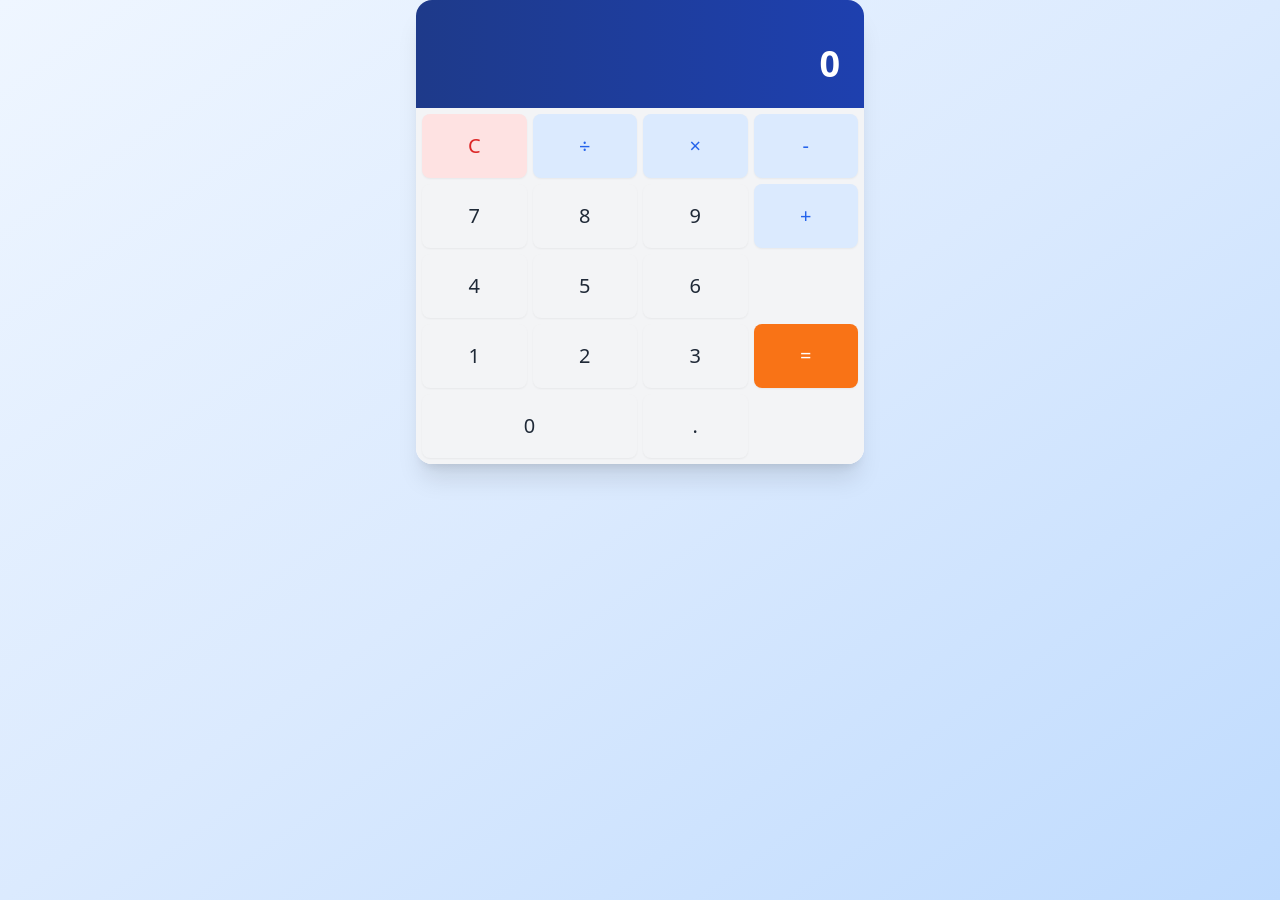
Test case: Calculator Component › should perform subtraction correctly
Click the button "9": (695, 216) [643,184,748,248]
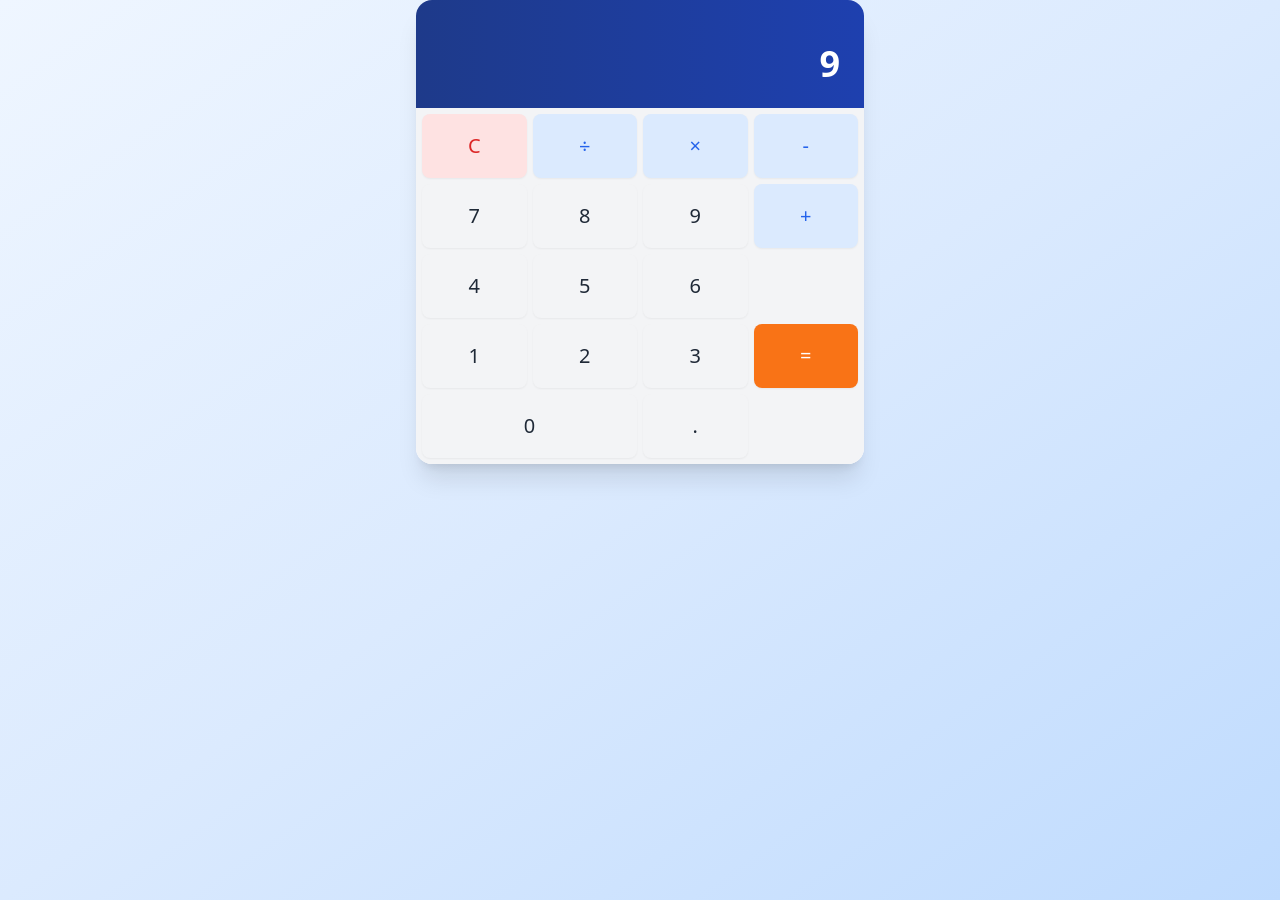
Click the button "-": (806, 146) [754,114,858,178]
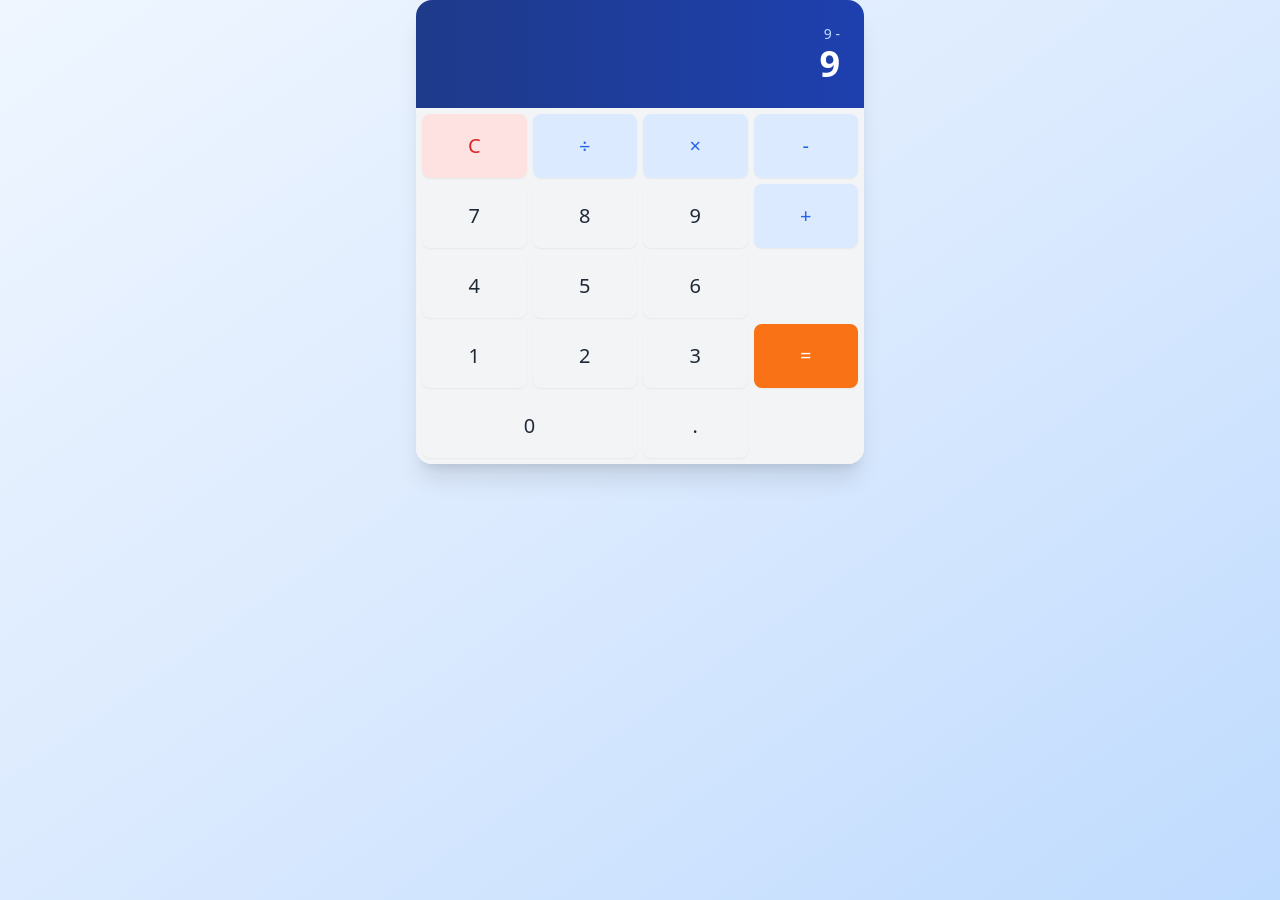
Click the button "4": (474, 286) [422,254,526,318]
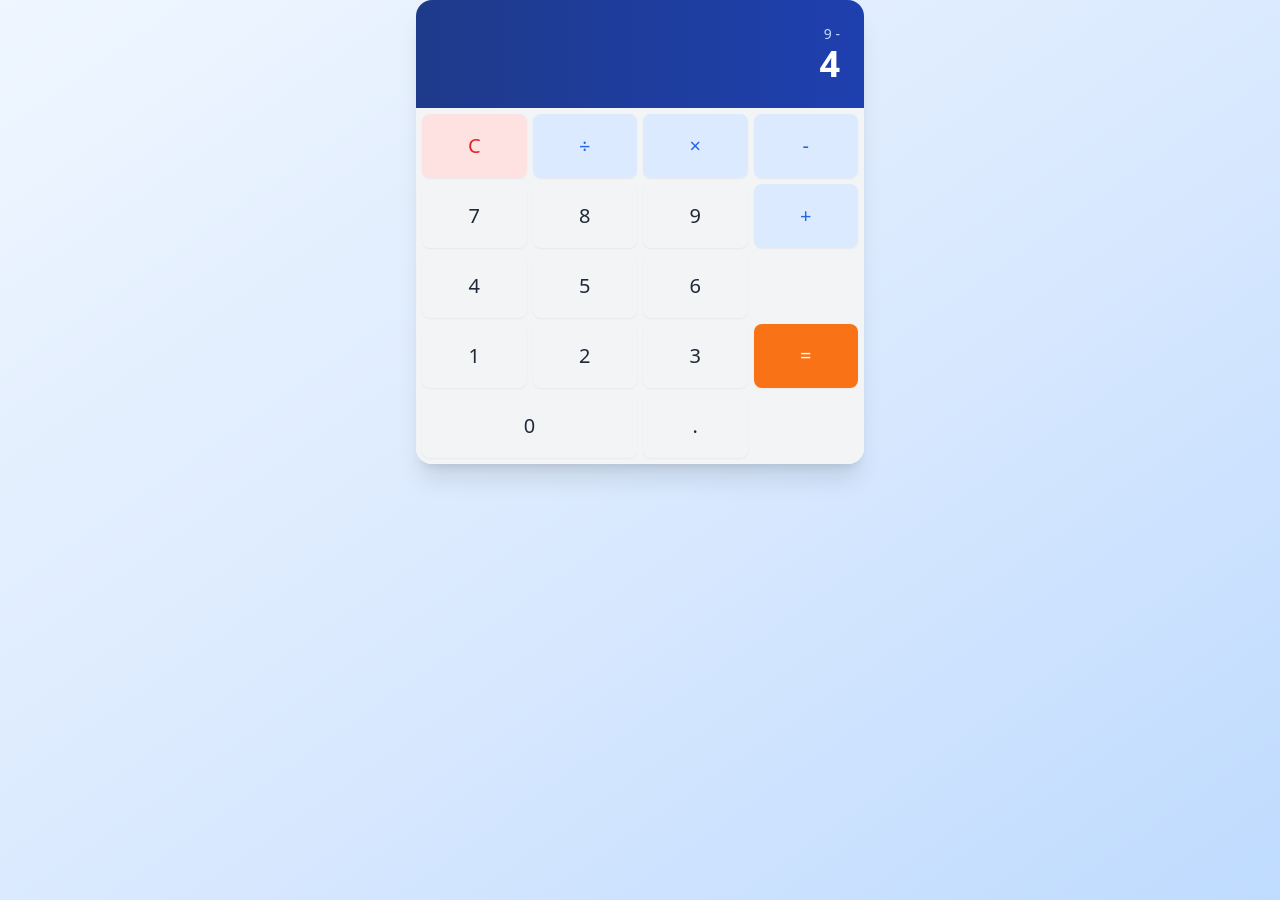
Click the button "=": (806, 356) [754,324,858,388]
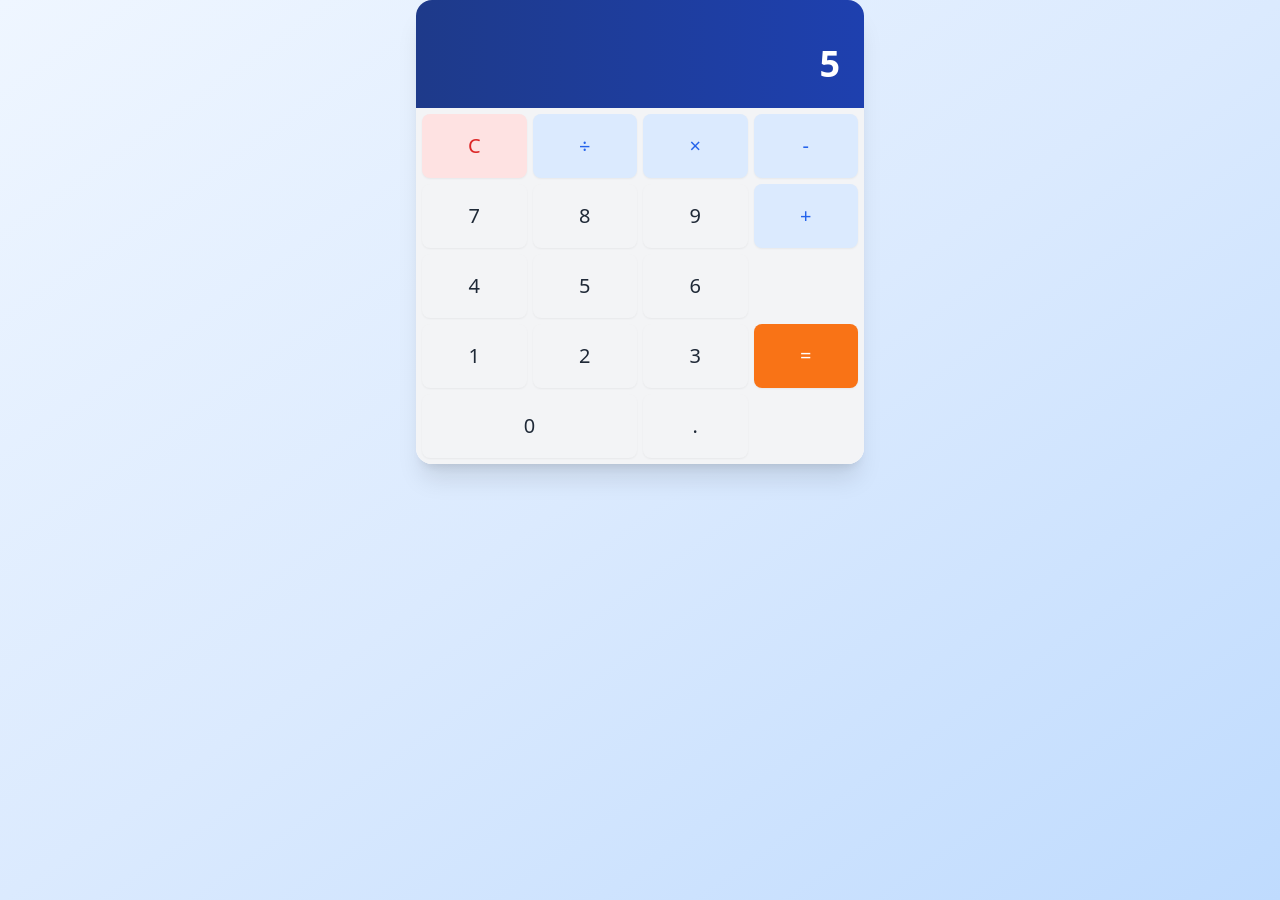
Result: the field with test id "calculator-display" reads "5" at [819,39,840,88]
